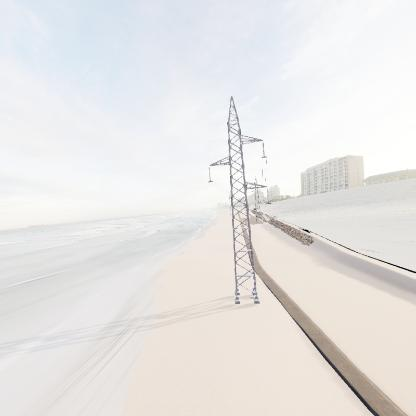tower: (204, 95, 269, 317)
